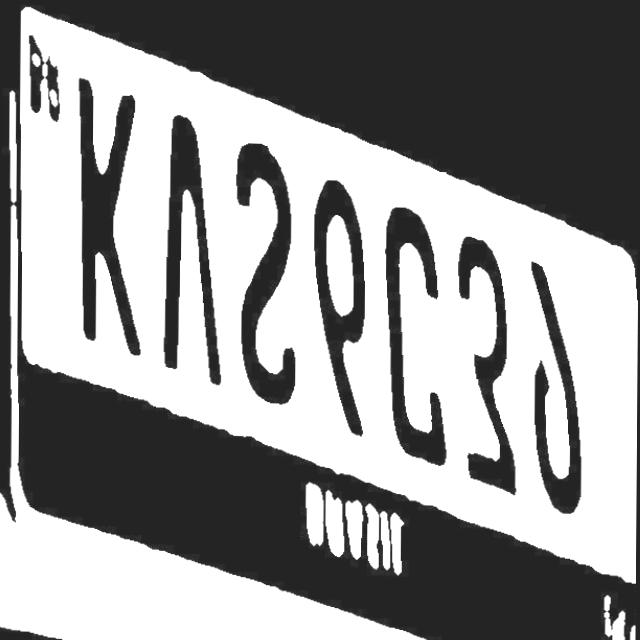3: (461, 221, 525, 507)
6: (315, 150, 376, 434)
9: (529, 244, 595, 528)
c: (392, 194, 457, 484)
k: (74, 56, 145, 367)
s: (225, 120, 303, 408)
v: (154, 96, 228, 391)
